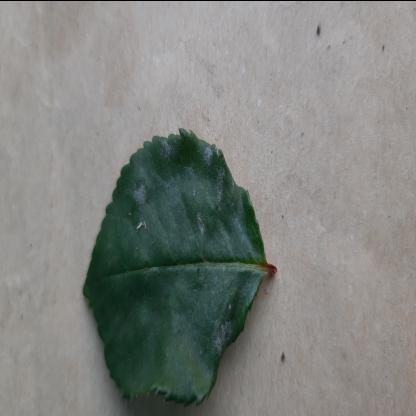powdery-mildew: (79, 116, 273, 403)
